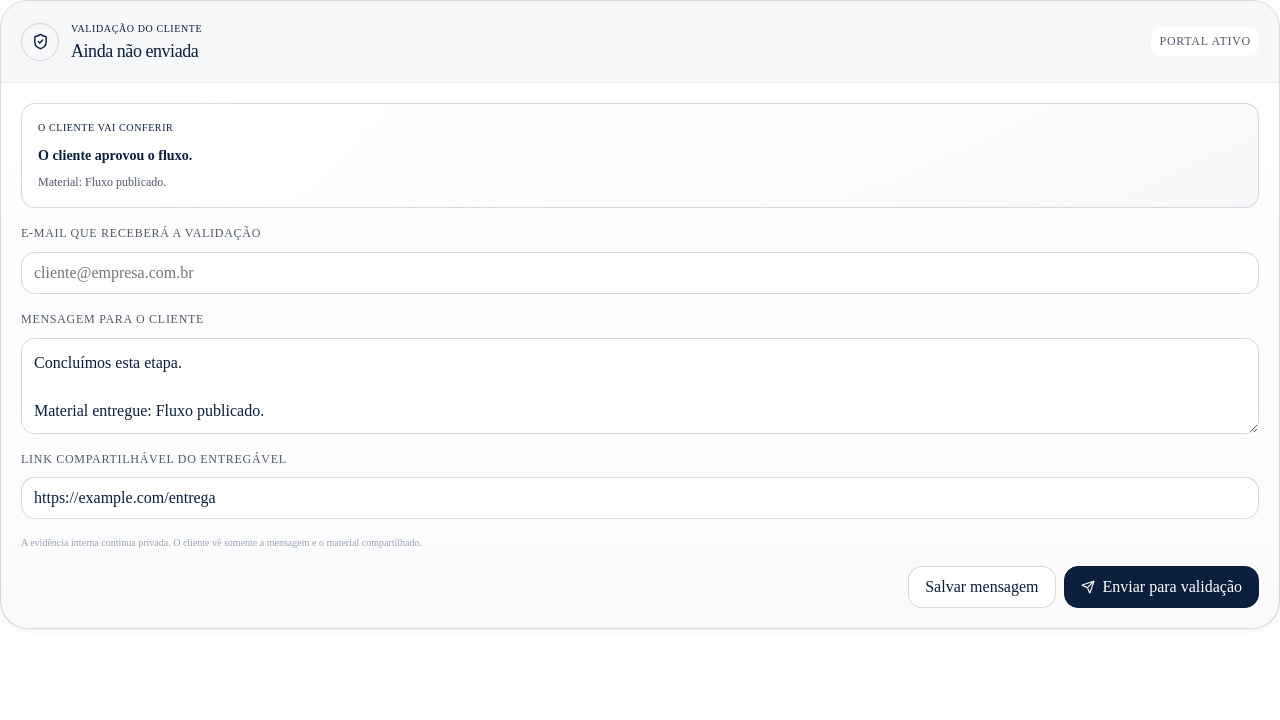
EntregaCliente › salva o rascunho sem destinatário e preserva a mensagem após falha
Replace the text in the text box labelled "Mensagem para o cliente" with "Revise o material preparado." at (640, 386), box [21,338,1259,434]
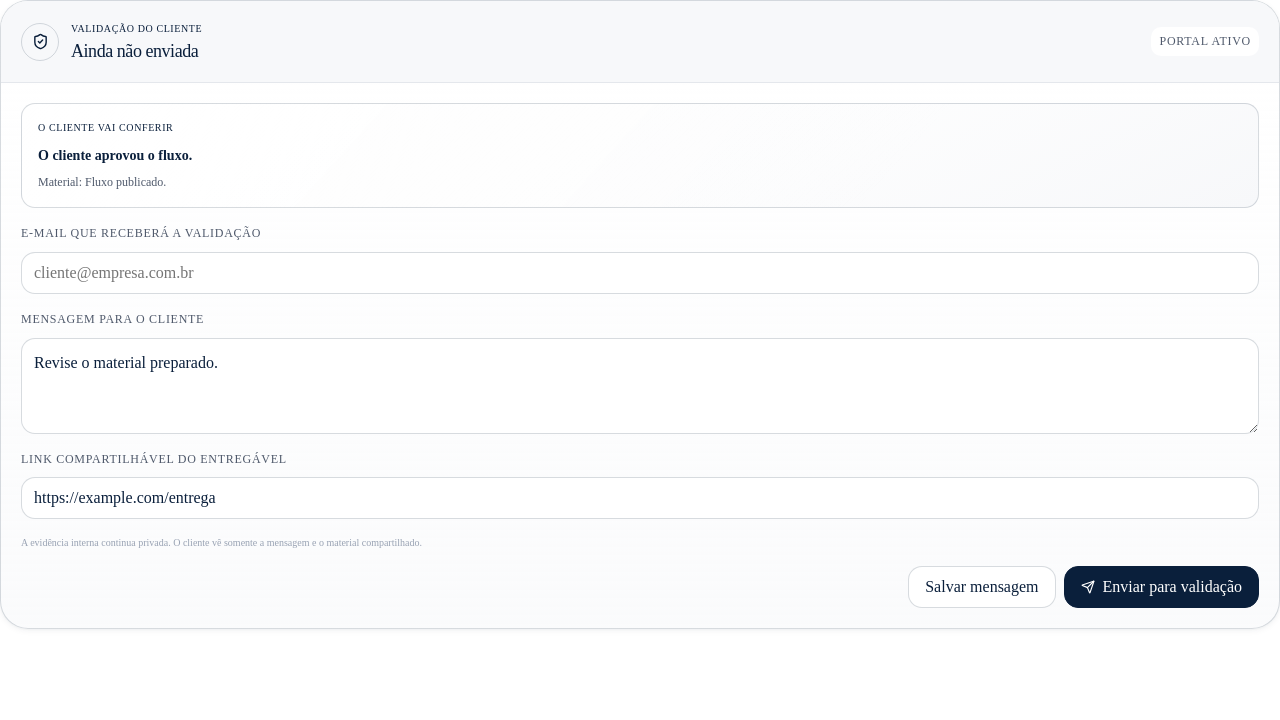
Click the button "Salvar mensagem" at (982, 587), box [908,566,1056,608]
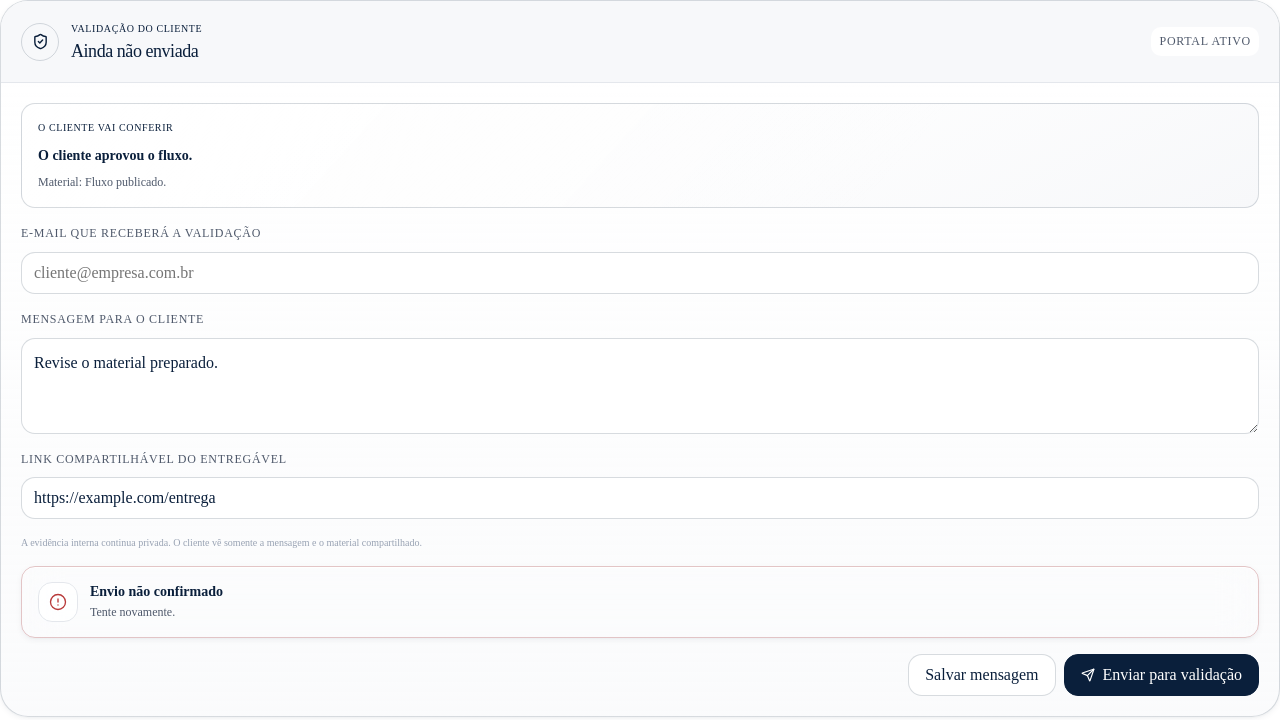
expect the message shows "Envio não confirmado": met, box [90,584,223,599]
